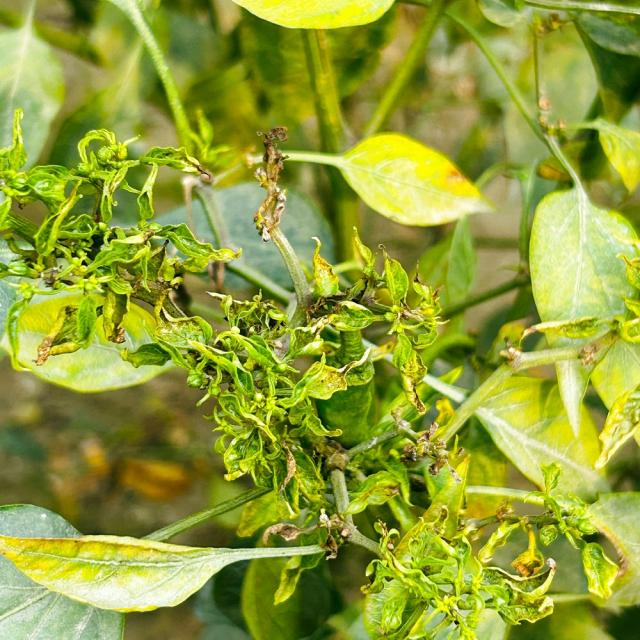Chilli_Leaf_Curl: (1, 0, 638, 638), (1, 108, 240, 393), (0, 502, 332, 614), (521, 184, 639, 469), (275, 130, 496, 228), (0, 501, 125, 638), (230, 0, 397, 30)
